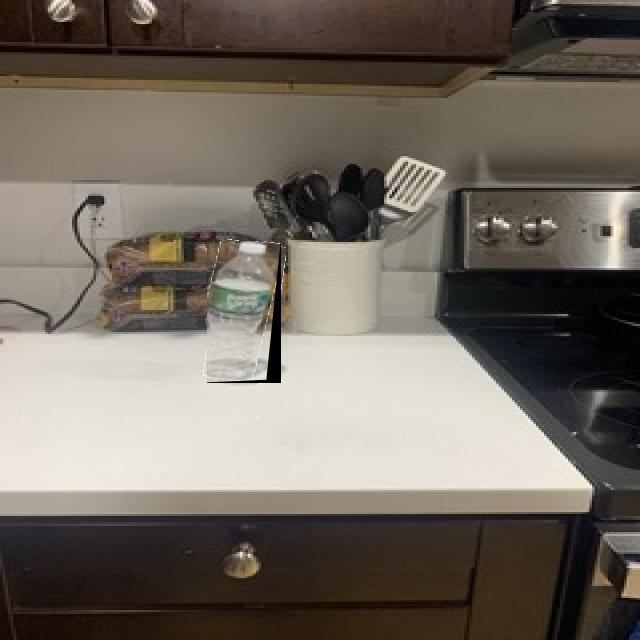water_bottle: (208, 241, 282, 383)
